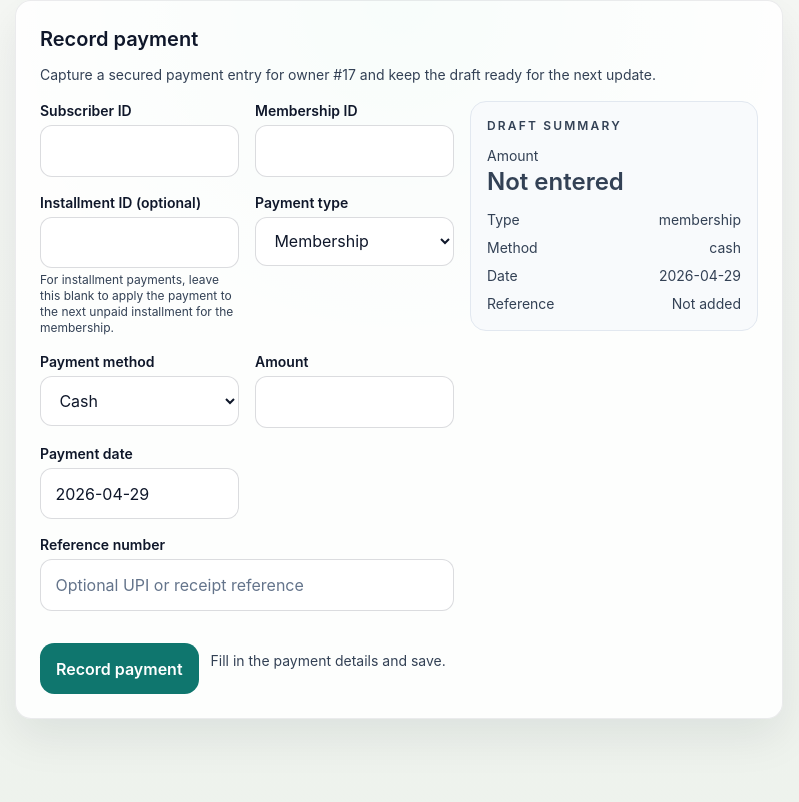
it: allows installment payments without entering an installment id
Select "Installment" in the dropdown labelled "Payment type" at (354, 241), box [255,217,454,266]
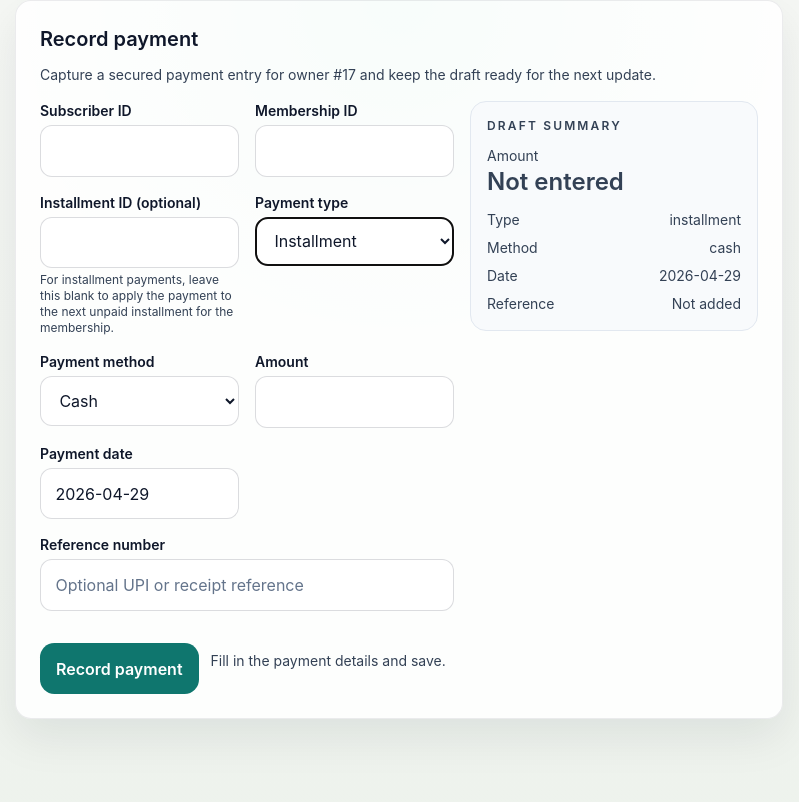
Type "42" into the number field labelled "Subscriber ID" at (140, 151), box [40,125,239,177]
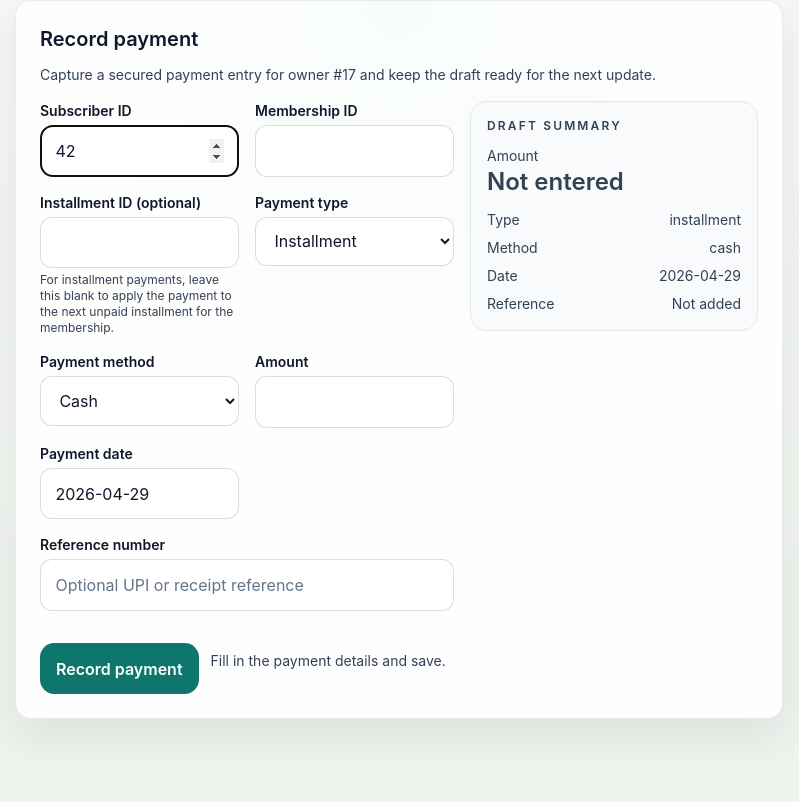
Type "8" into the number field labelled "Membership ID" at (354, 151), box [255,125,454,177]
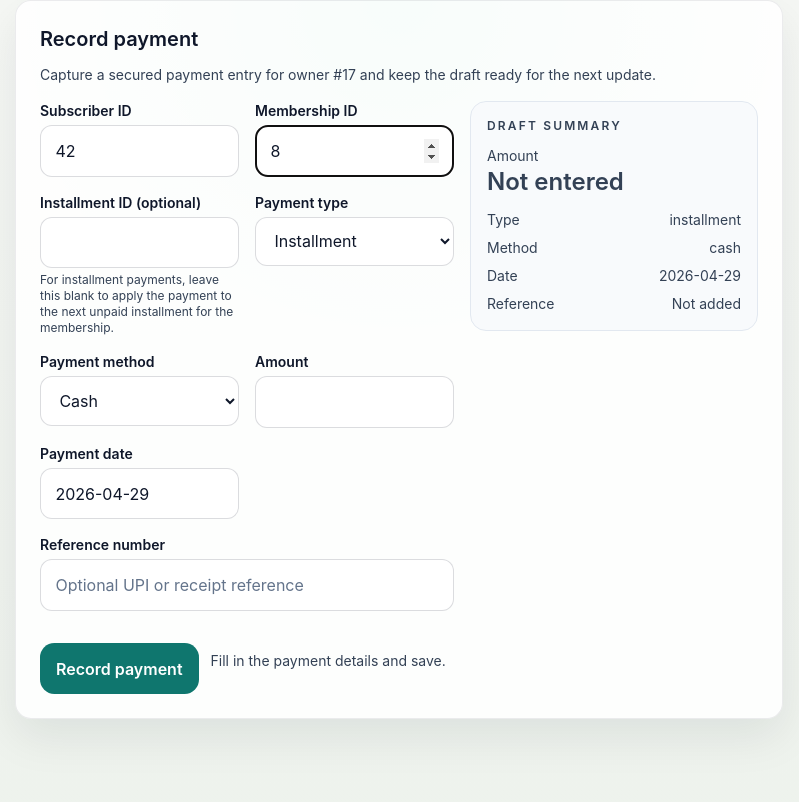
Type "900" into the number field labelled "Amount" at (354, 402), box [255,376,454,428]
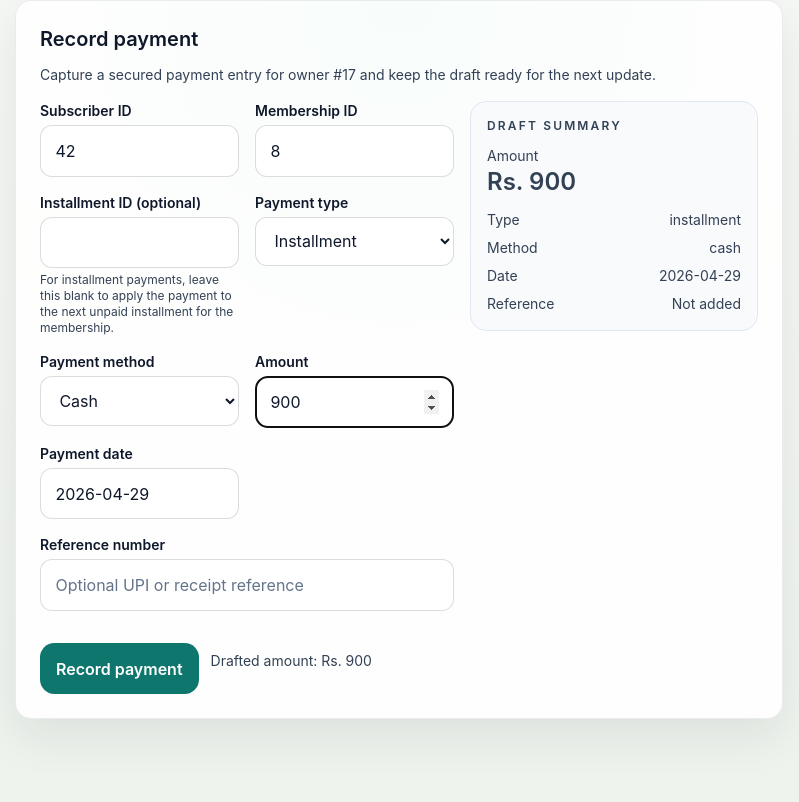
Click the button "Record payment" at (119, 669), box [40,643,199,694]
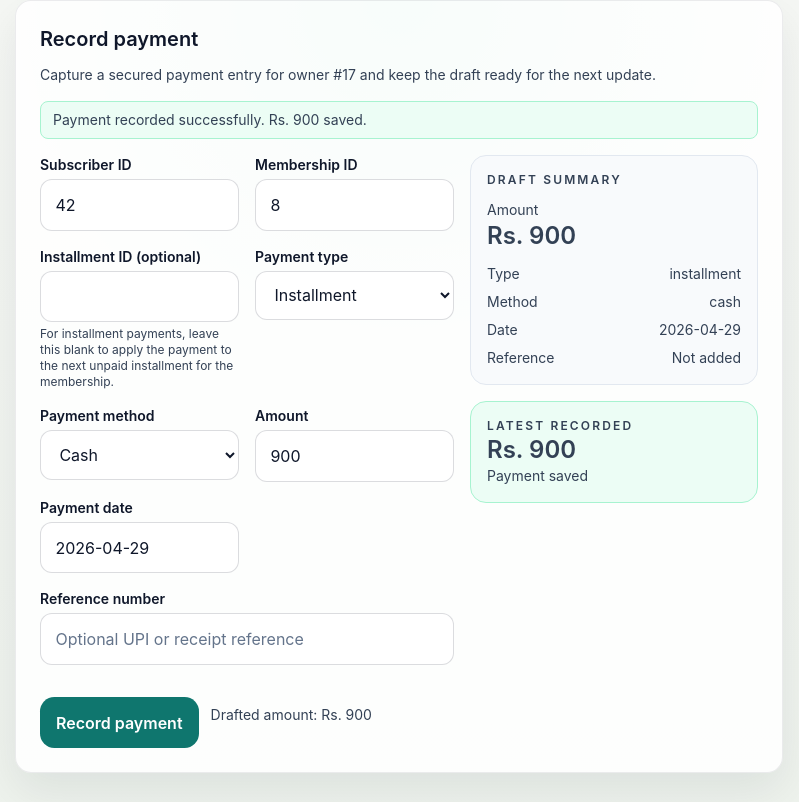
Expected: the text "leave this blank to apply the payment to the next unpaid installment" is shown, [40,326,233,389]
Now the text "Payment recorded successfully. Rs. 900 saved." is shown, box [40,101,758,139]
